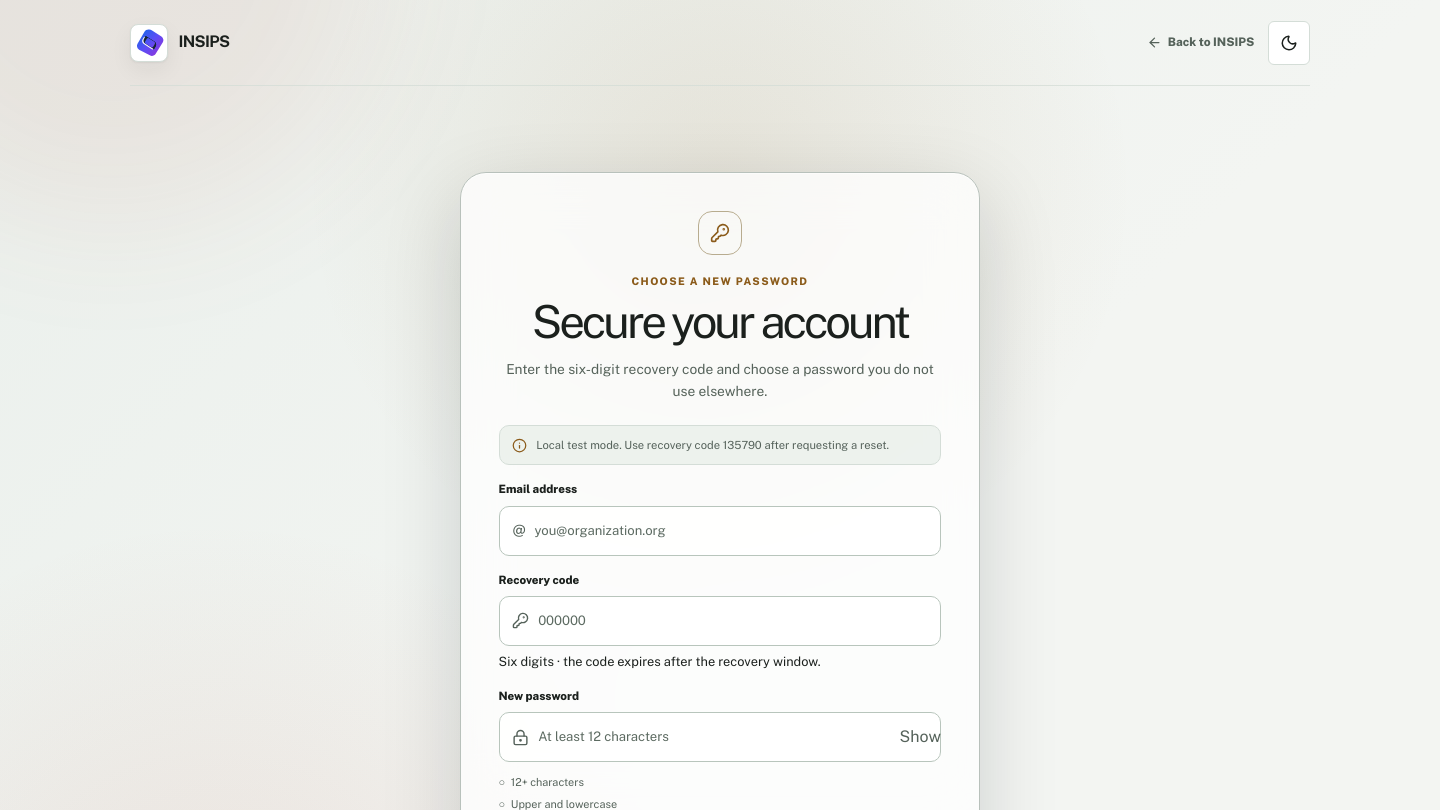
Test: ResetPasswordExperience › shows an intentional completion state after a successful reset
This screenshot has width=1440, height=810.
Type "member@example.org" into the field labelled "Email address".
click(731, 531); type("member@example.org")  # box [534,520,928,541]
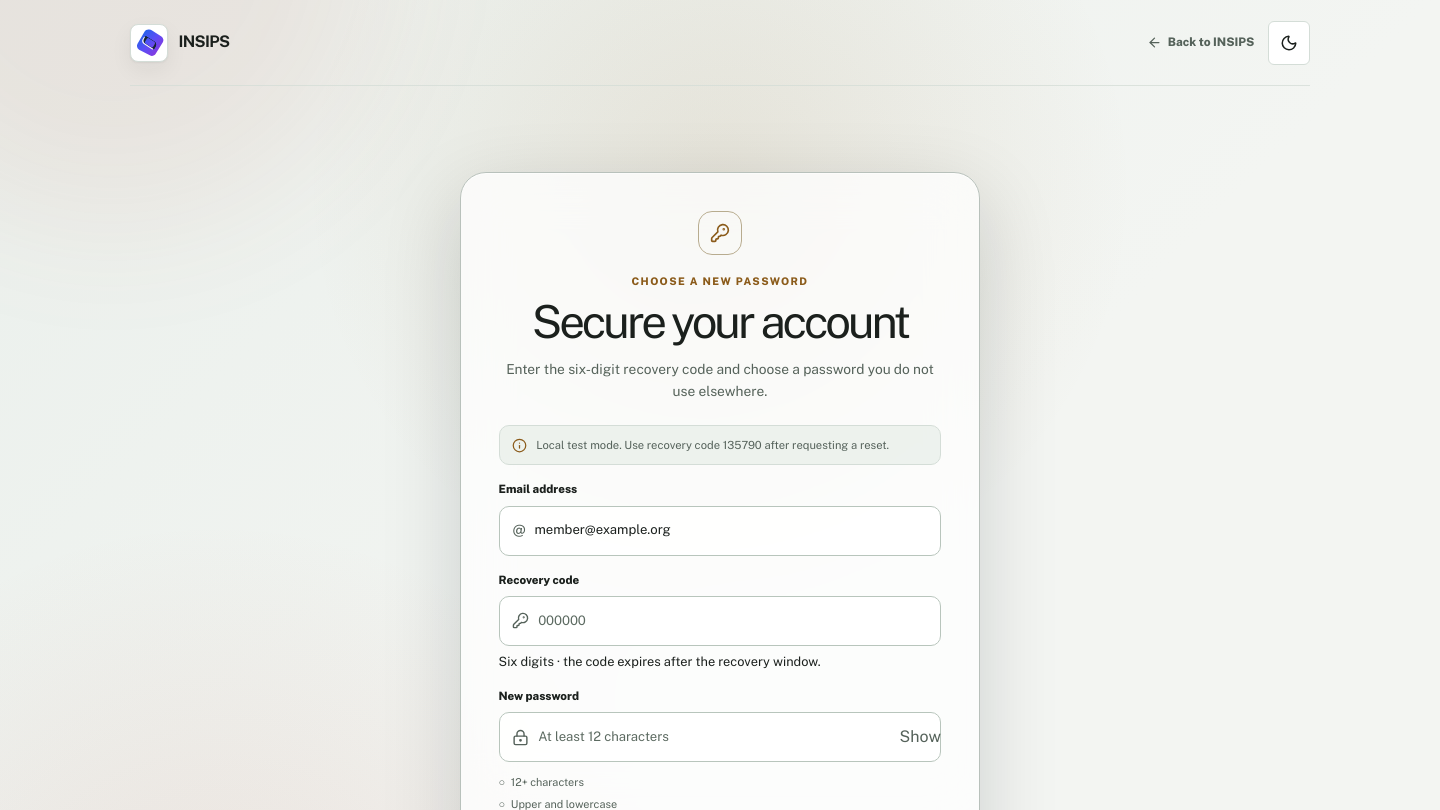
Type "135790" into the field labelled "Recovery code".
click(733, 621); type("135790")  # box [538,611,928,631]
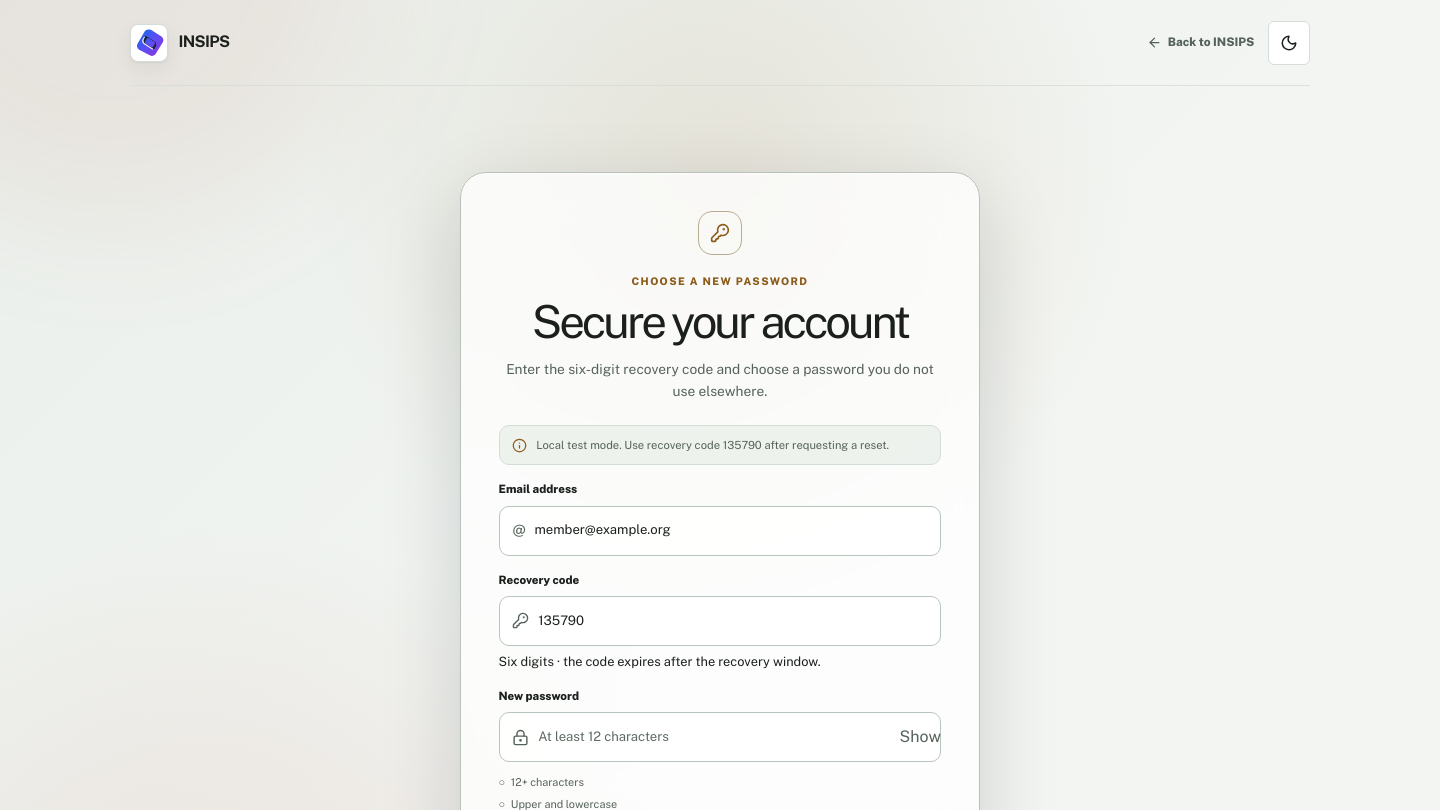
Type "StrongPassword!23" into the password field labelled "New password".
click(714, 737); type("StrongPassword!23")  # box [538,727,891,748]
(page scrolled)
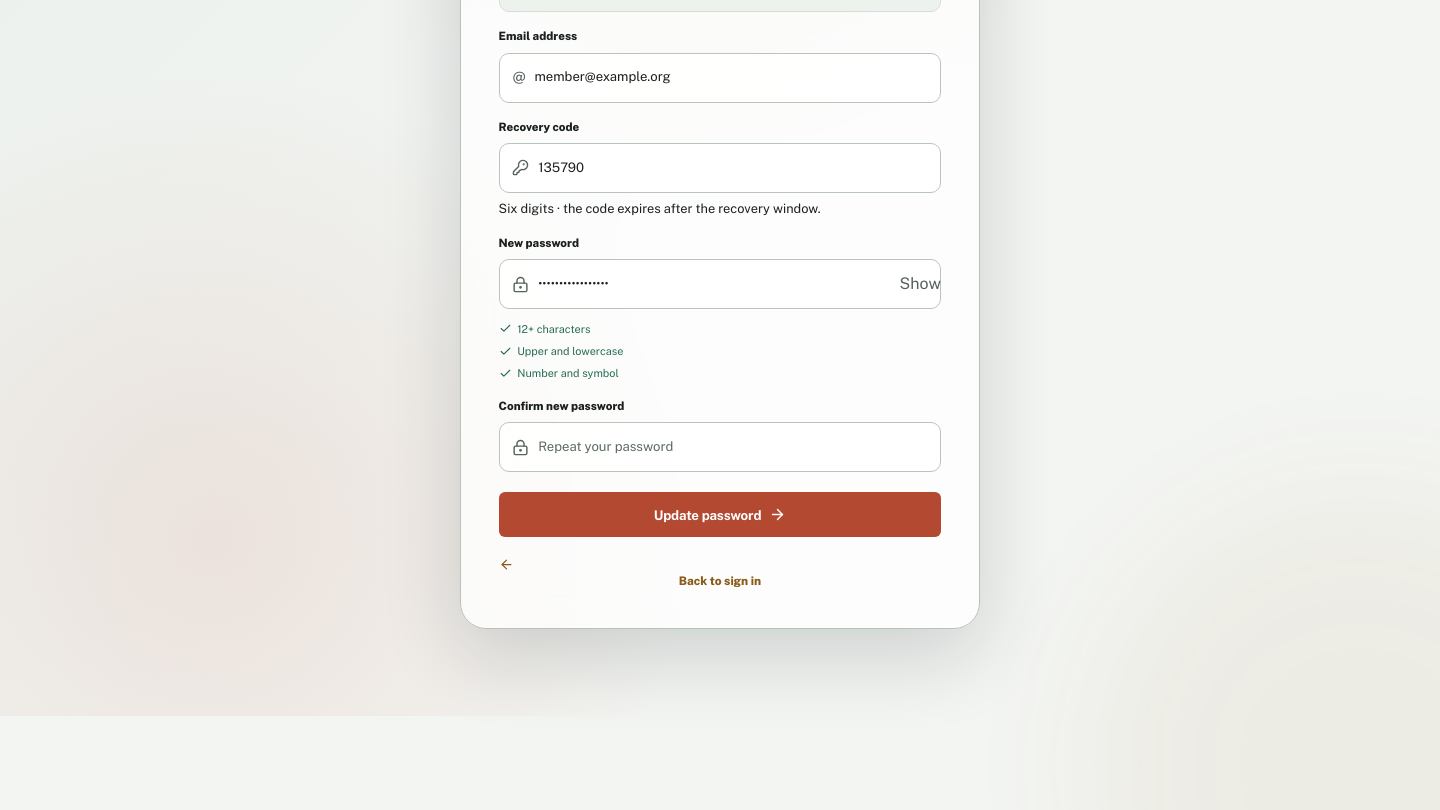
Type "StrongPassword!23" into the password field labelled "Confirm new password".
click(733, 447); type("StrongPassword!23")  # box [538,437,928,458]
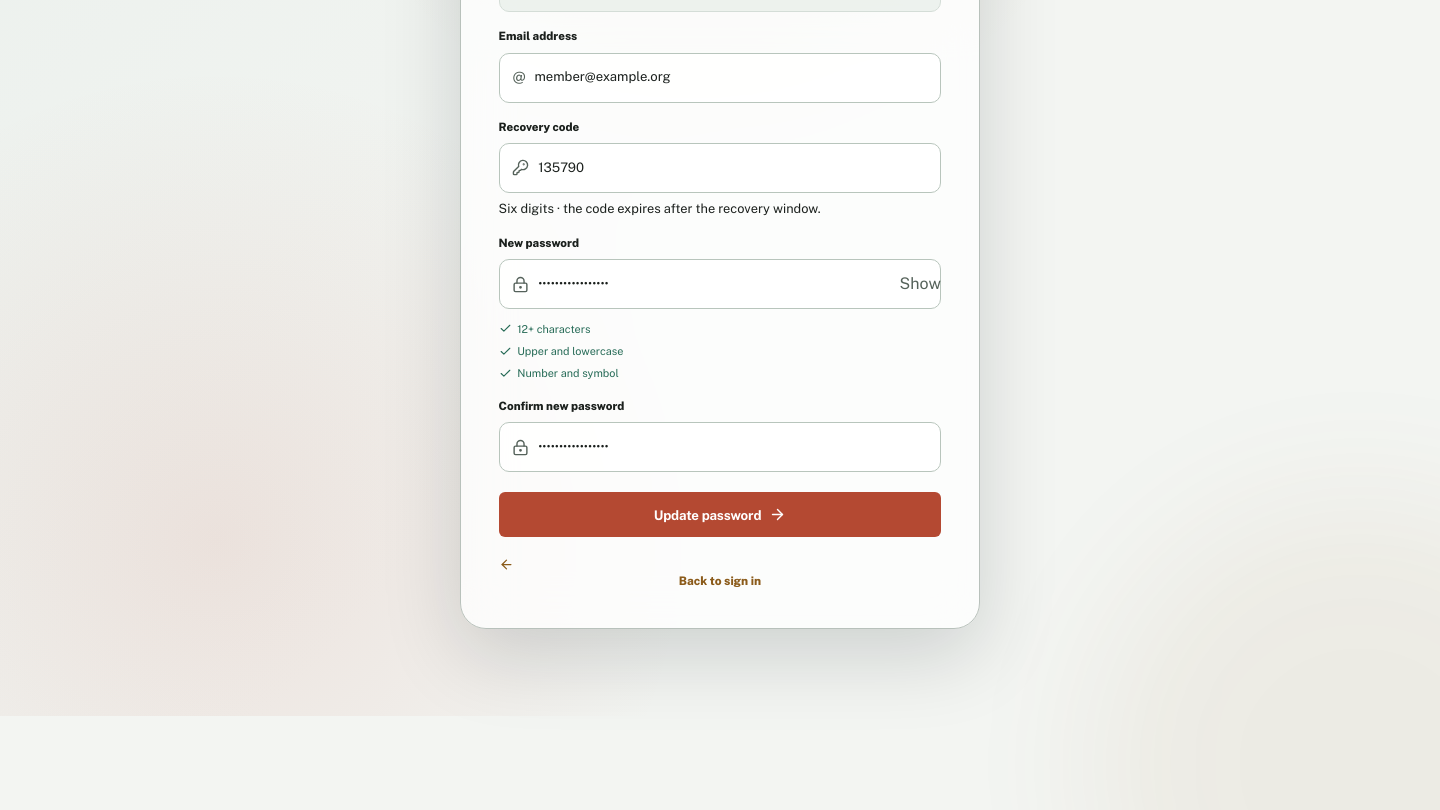
Click the button "Update password".
click(720, 515)  # box [499,492,941,538]
(page scrolled)
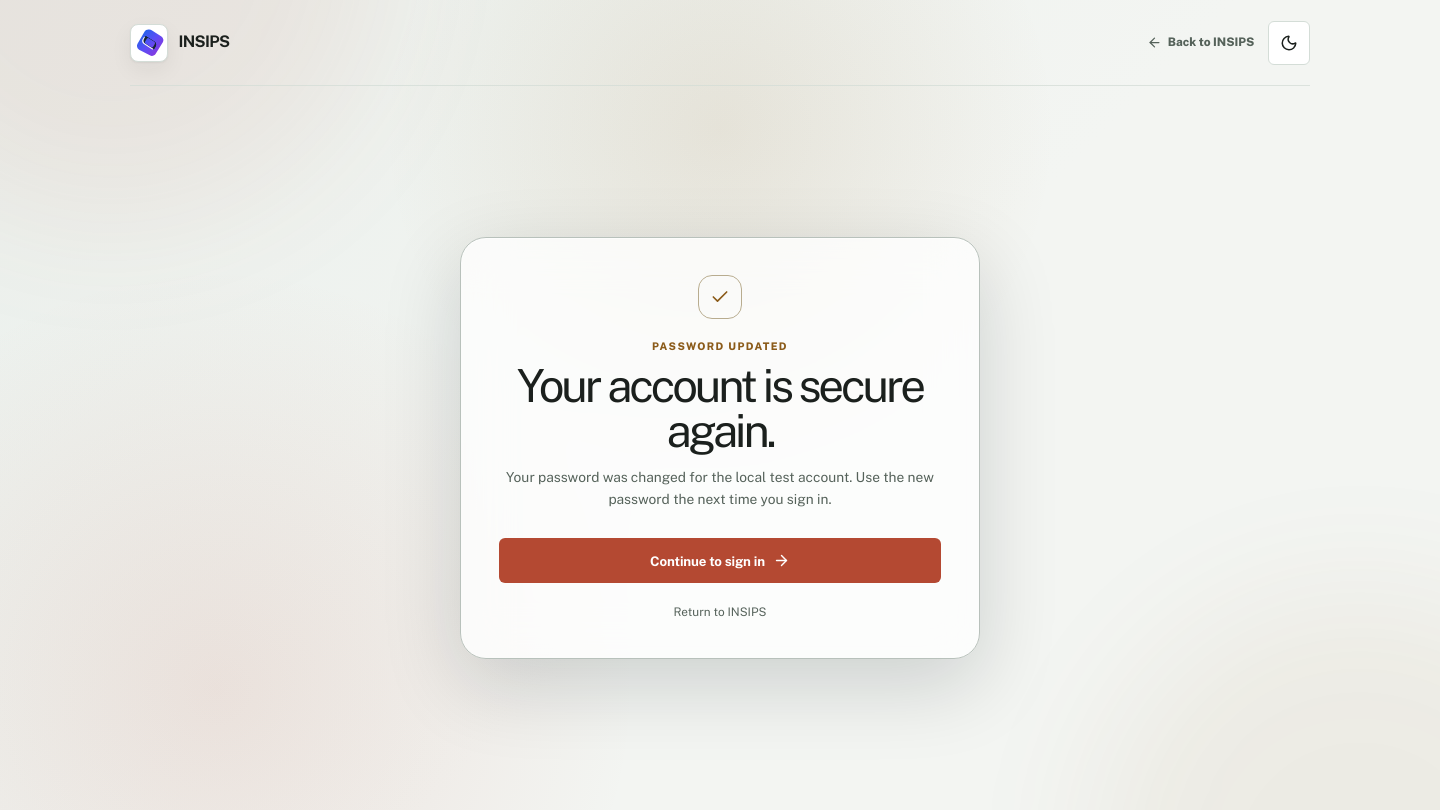
Check: the message shows "Password updated", box [652,340,788,352]
